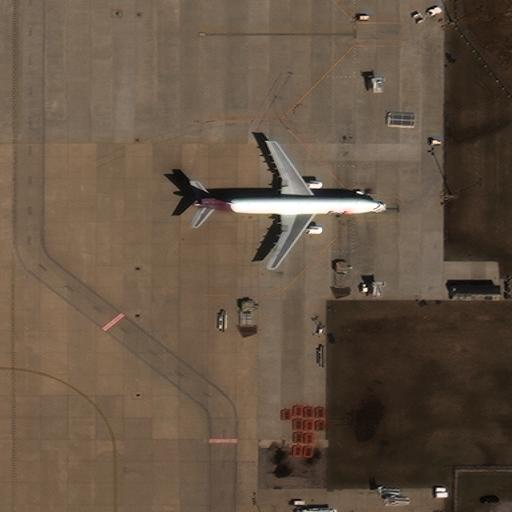Large Civil Transport: (195, 141, 384, 269)
